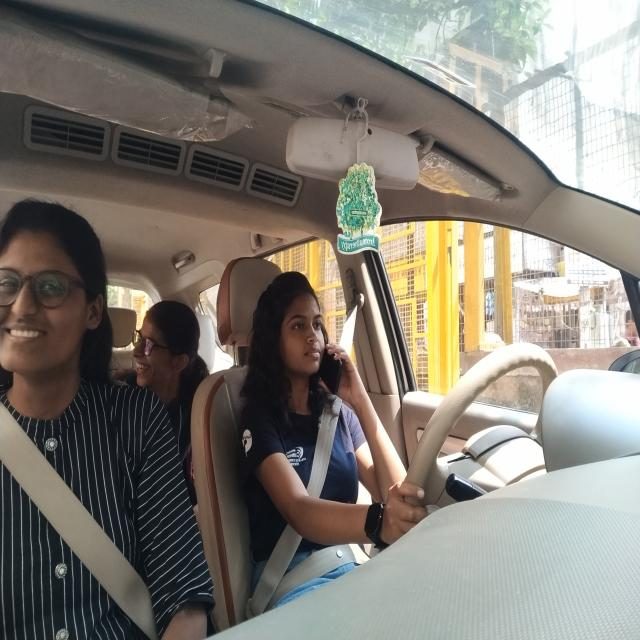mobile: (319, 343, 344, 402)
person: (0, 196, 123, 393), (260, 269, 324, 376), (132, 300, 200, 389)
